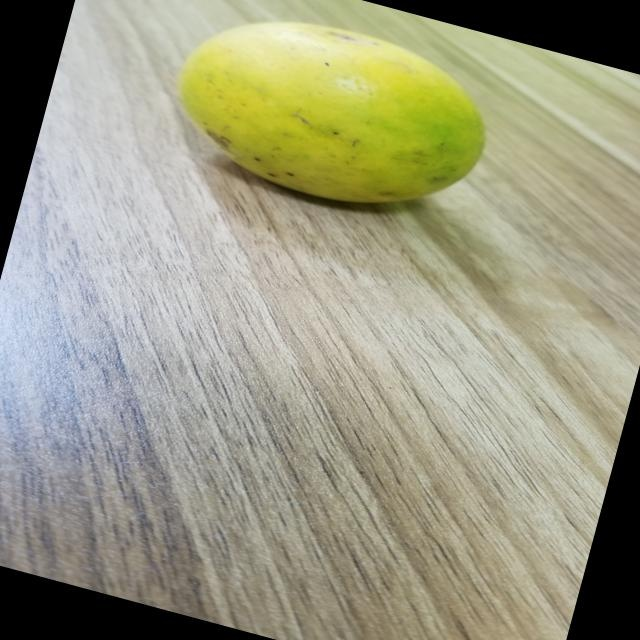agrume: (128, 0, 516, 247)
